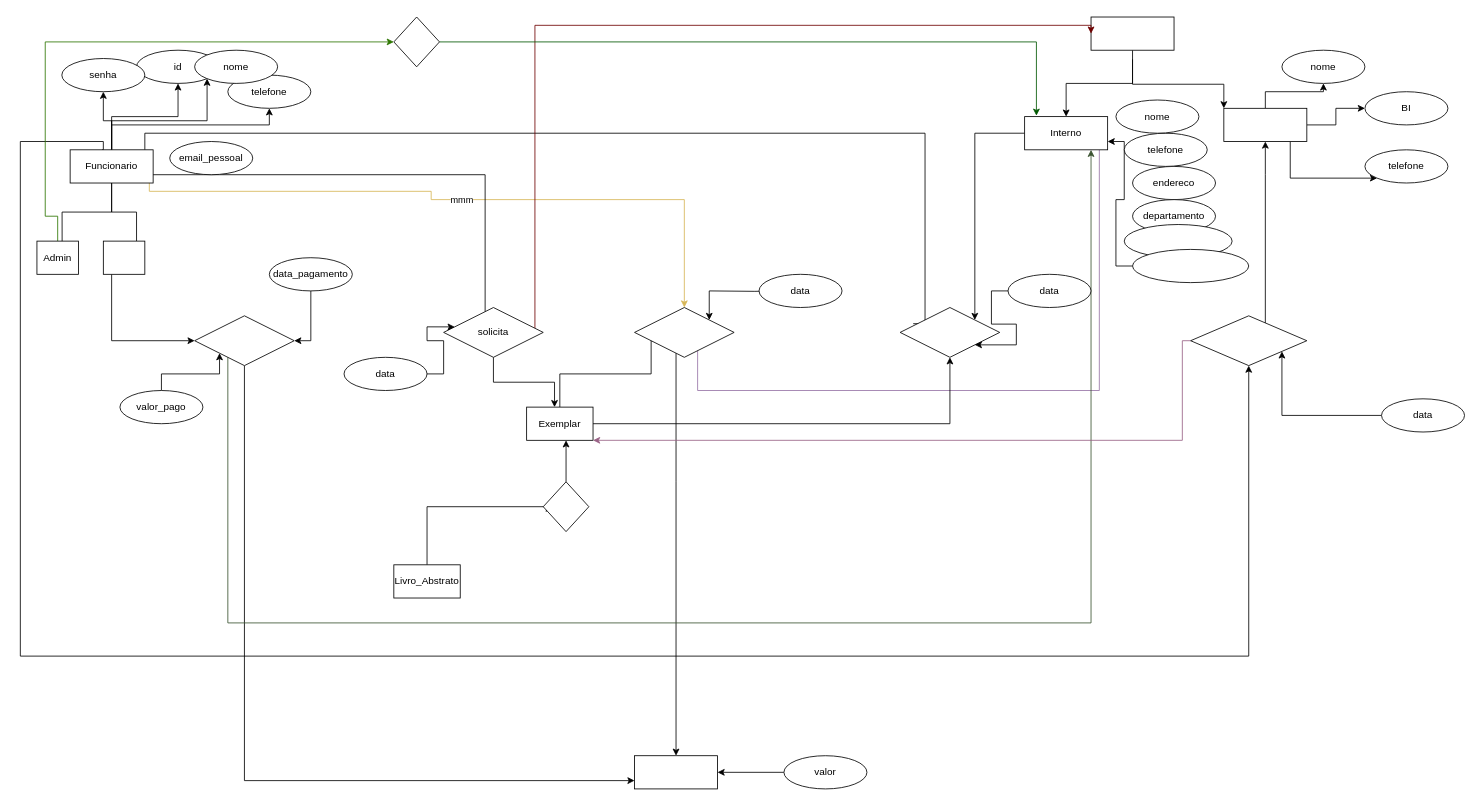
Image size: 1479x803. Some labels were removed from this diagram. The box of each missing label's shape, as (x1, y1, x2, y2) in pixels:
activa: (393, 16, 439, 67)
Atendent: (103, 240, 145, 274)
contem: (542, 481, 589, 532)
Devolve_Biblioteca: (1190, 315, 1307, 366)
Devolve_casa: (634, 307, 734, 357)
email_institucional: (1123, 224, 1232, 258)
Externo: (1223, 107, 1307, 142)
multa: (634, 755, 718, 789)
No de cartao de leitor: (1132, 249, 1249, 283)
pagar: (194, 315, 294, 366)
Renova: (899, 307, 1000, 357)
Utente: (1090, 16, 1174, 50)
